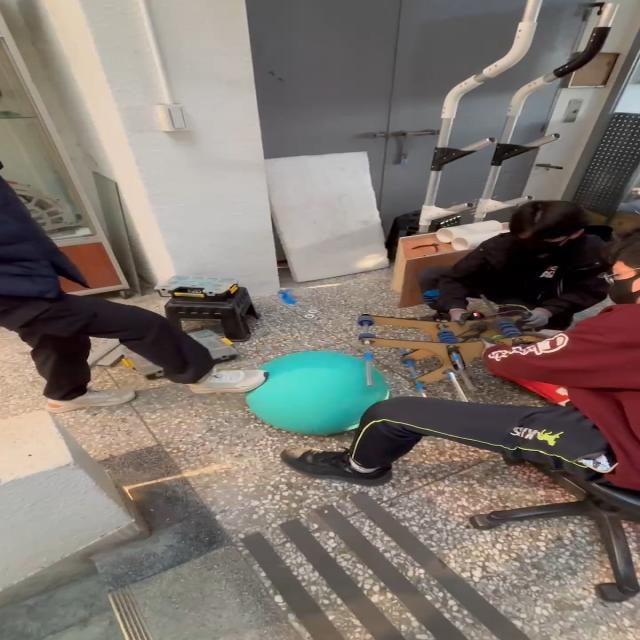ALGAE: (243, 349, 391, 437)
